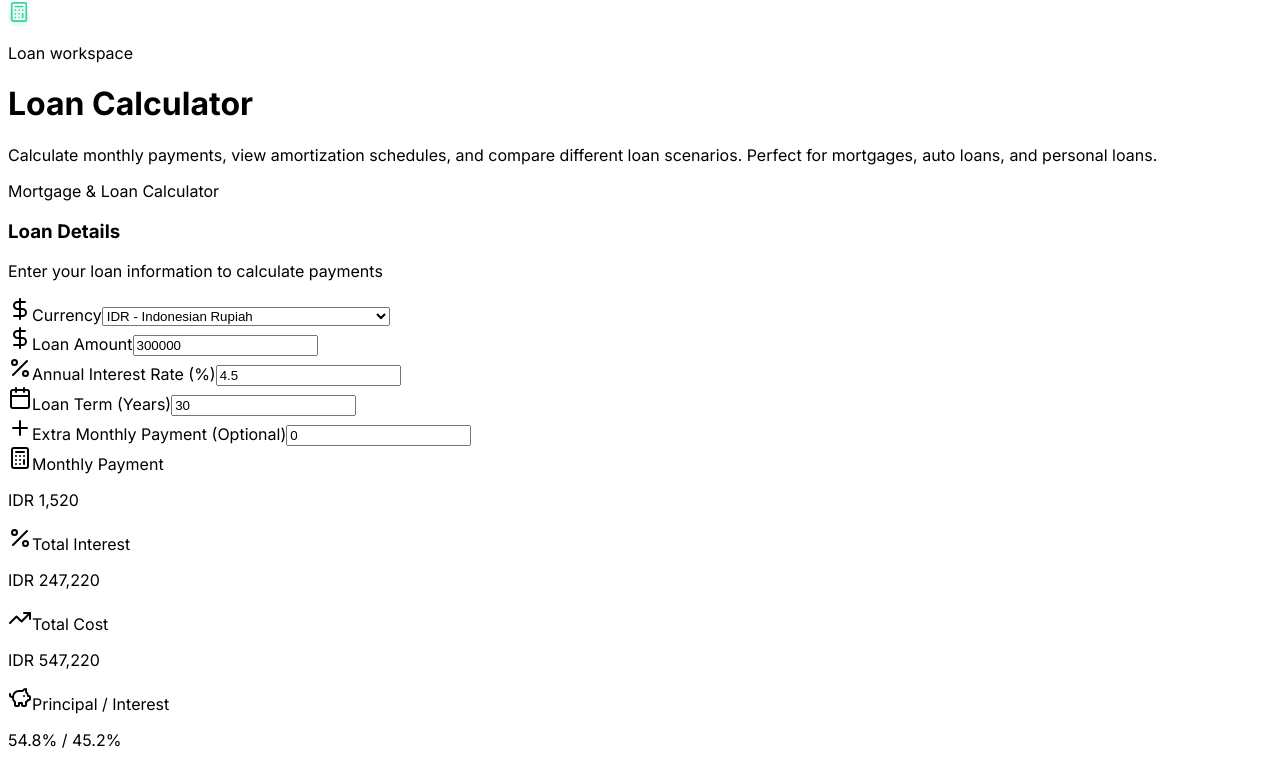
Loan Calculator Page › Extra Payments › calculates interest saved correctly
Type "200" into the number field labelled "Extra Monthly Payment (Optional)".
click(379, 436); type("200")  # box [286, 425, 471, 446]
(page scrolled)
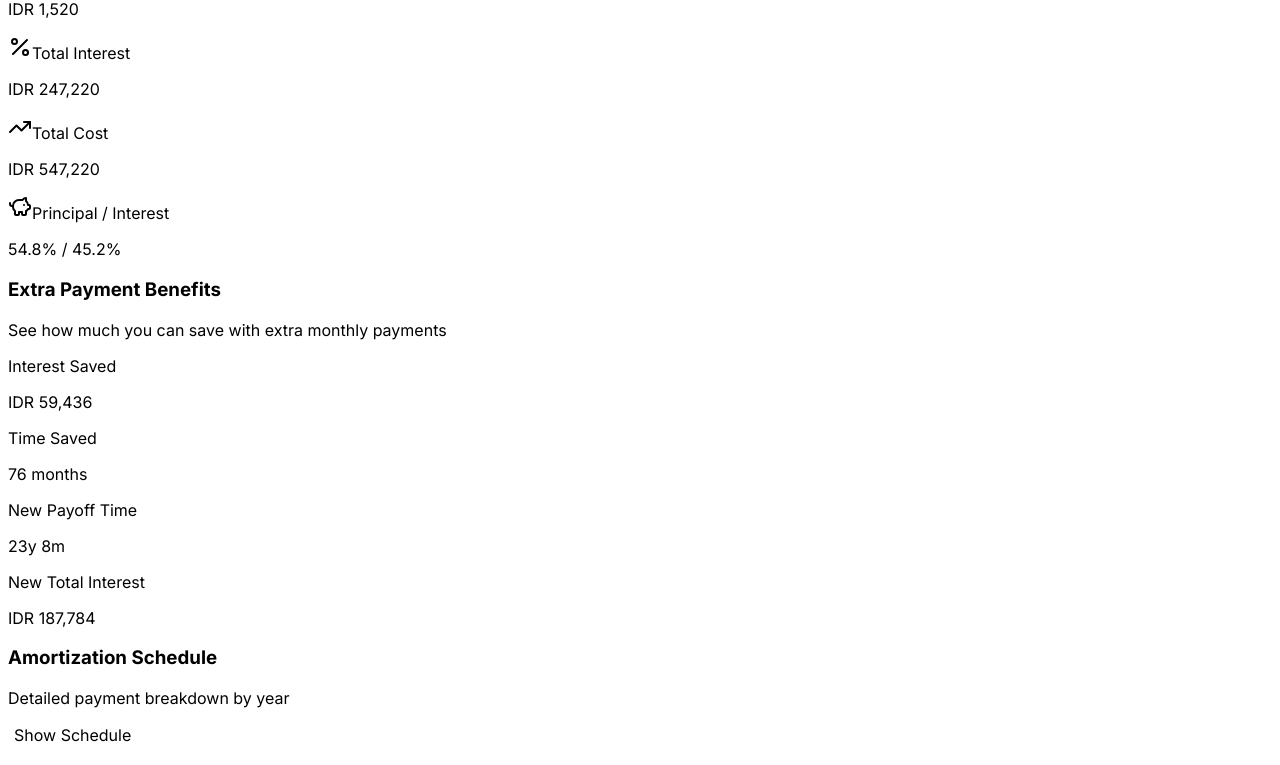
Expected: the text "Interest Saved" is shown, [8, 356, 116, 376]
